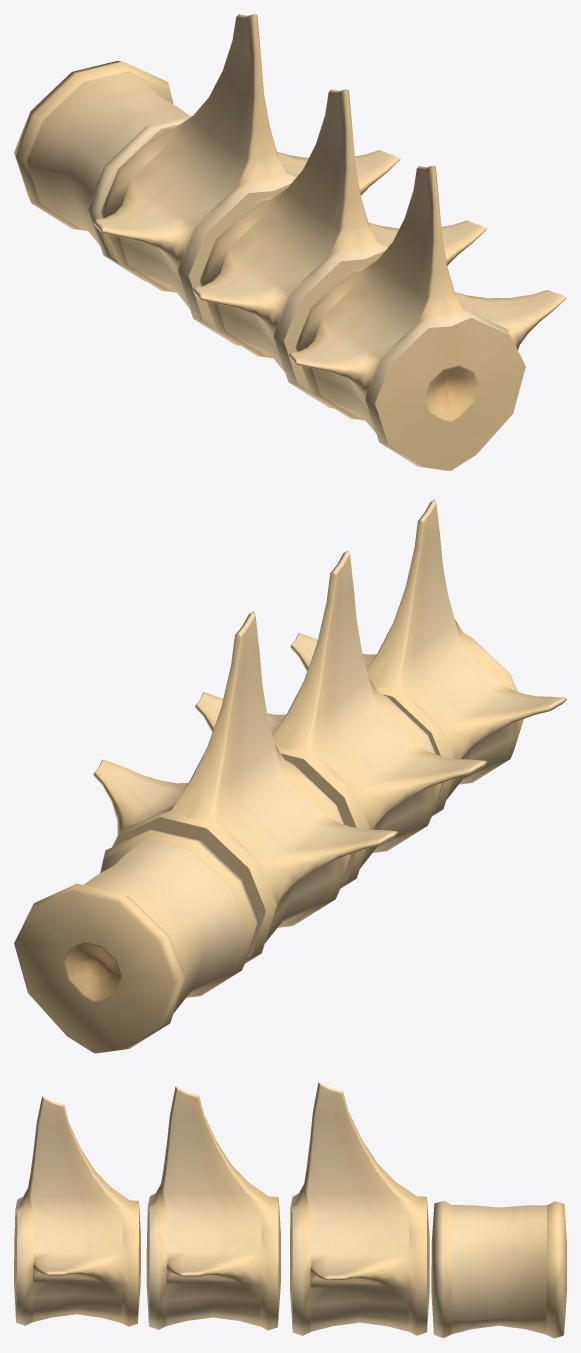
The model's file is SpineChunk1.fbx.
3 renders of one model, top to bottom at view 1: azimuth 30°, elevation 25°; view 2: azimuth 150°, elevation 25°; view 3: azimuth 270°, elevation 25°, orthographic. The views are drawn at different scales.
Visible parts, largest first — view 1: polySurface27; view 2: polySurface27; view 3: polySurface27.
Part boxes in pixels (x1,y1,x2,y2): polySurface27: (14, 14, 566, 470); polySurface27: (14, 499, 566, 1053); polySurface27: (14, 1082, 566, 1338).
Size of the model in its own units: 3.32 by 3.53 by 6.96.
